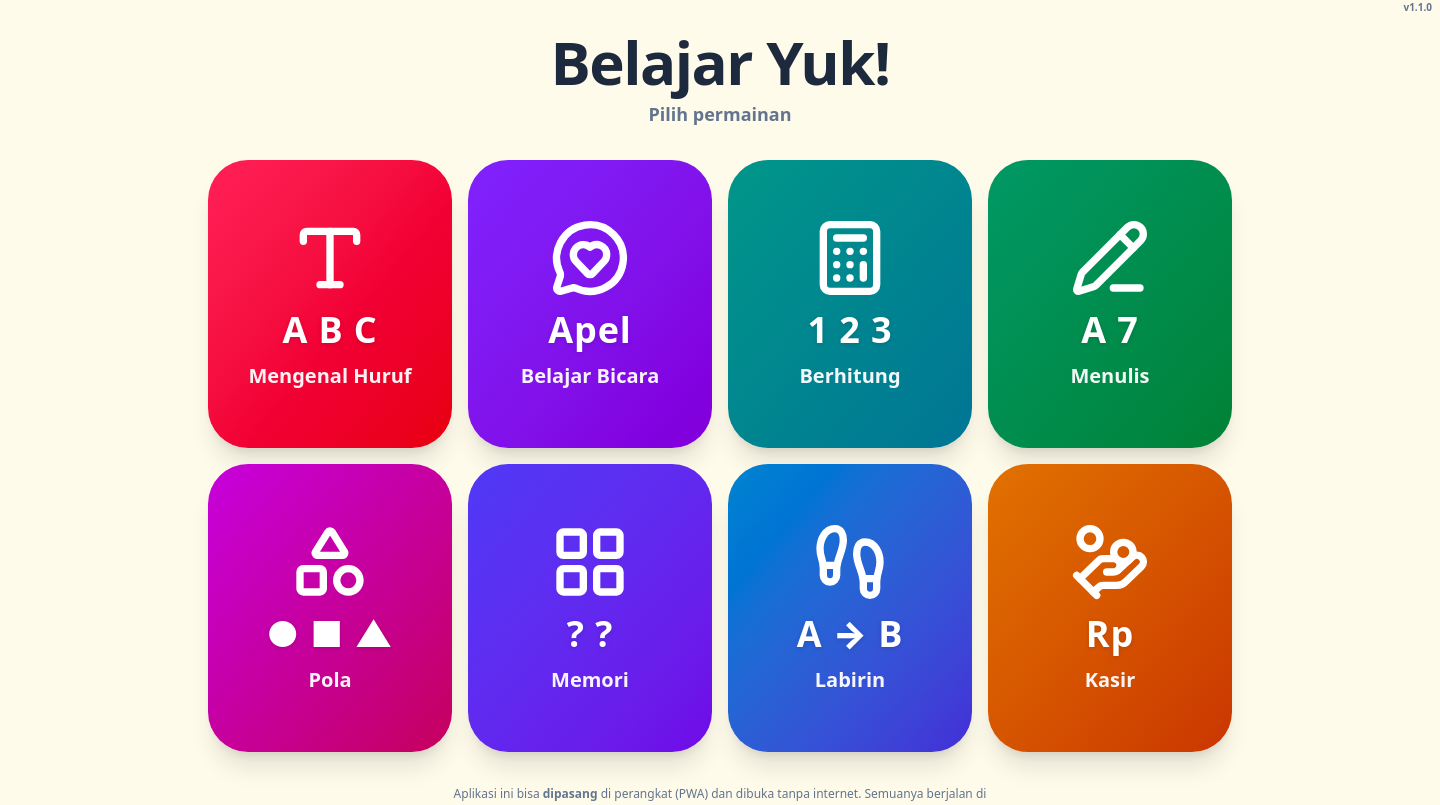
Test case: Memori › finishing › celebrates when every pair is found, and offers the next round
Click the button "? ? Memori". click: click(590, 608)
box: [468,464,712,752]
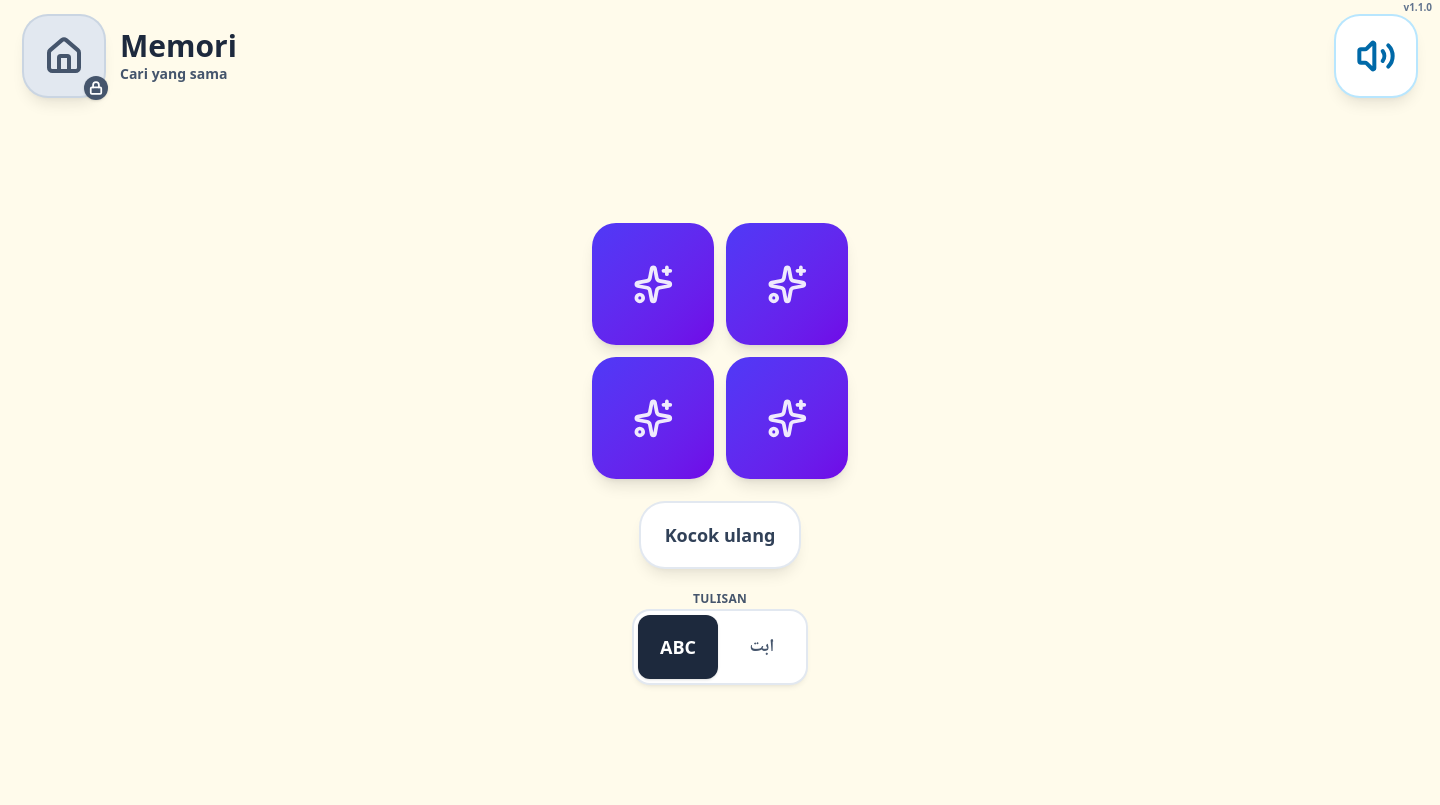
Click the button named "Kartu 1, tertutup". click: click(653, 284)
box: [592,223,714,345]
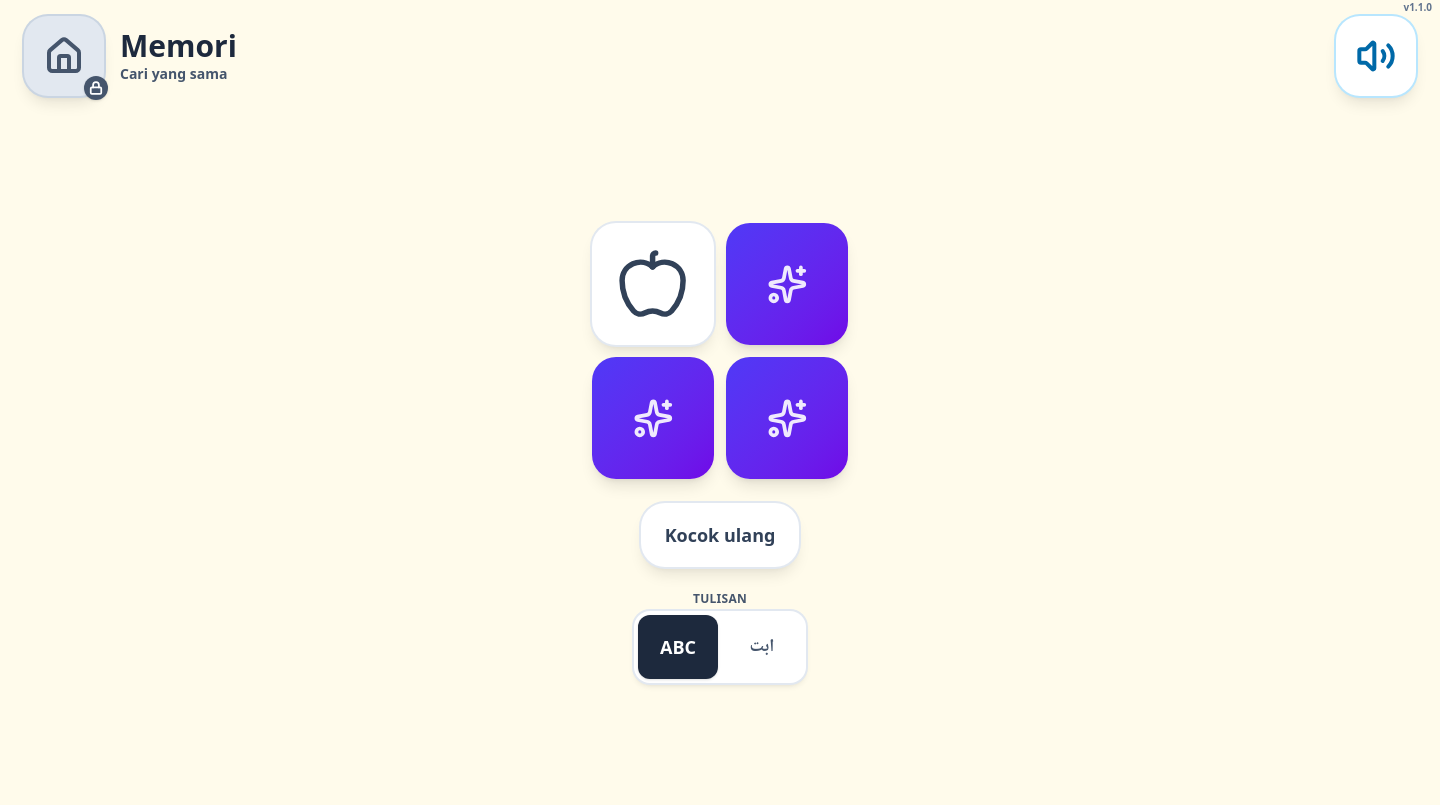
Click the button named "Kartu 2, tertutup". click: click(787, 284)
box: [726,223,848,345]
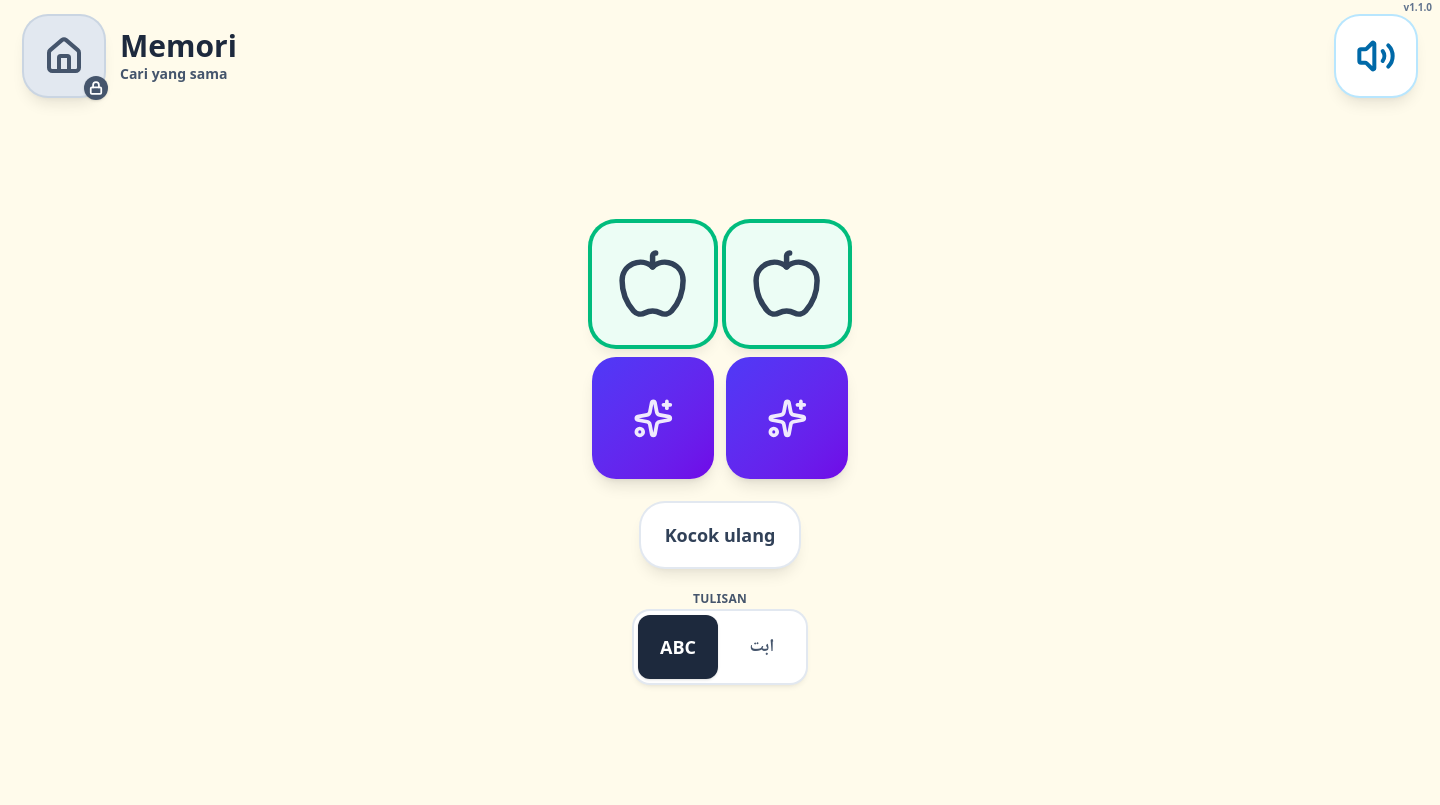
Click the button named "Kartu 3, tertutup". click: click(653, 418)
box: [592,357,714,479]
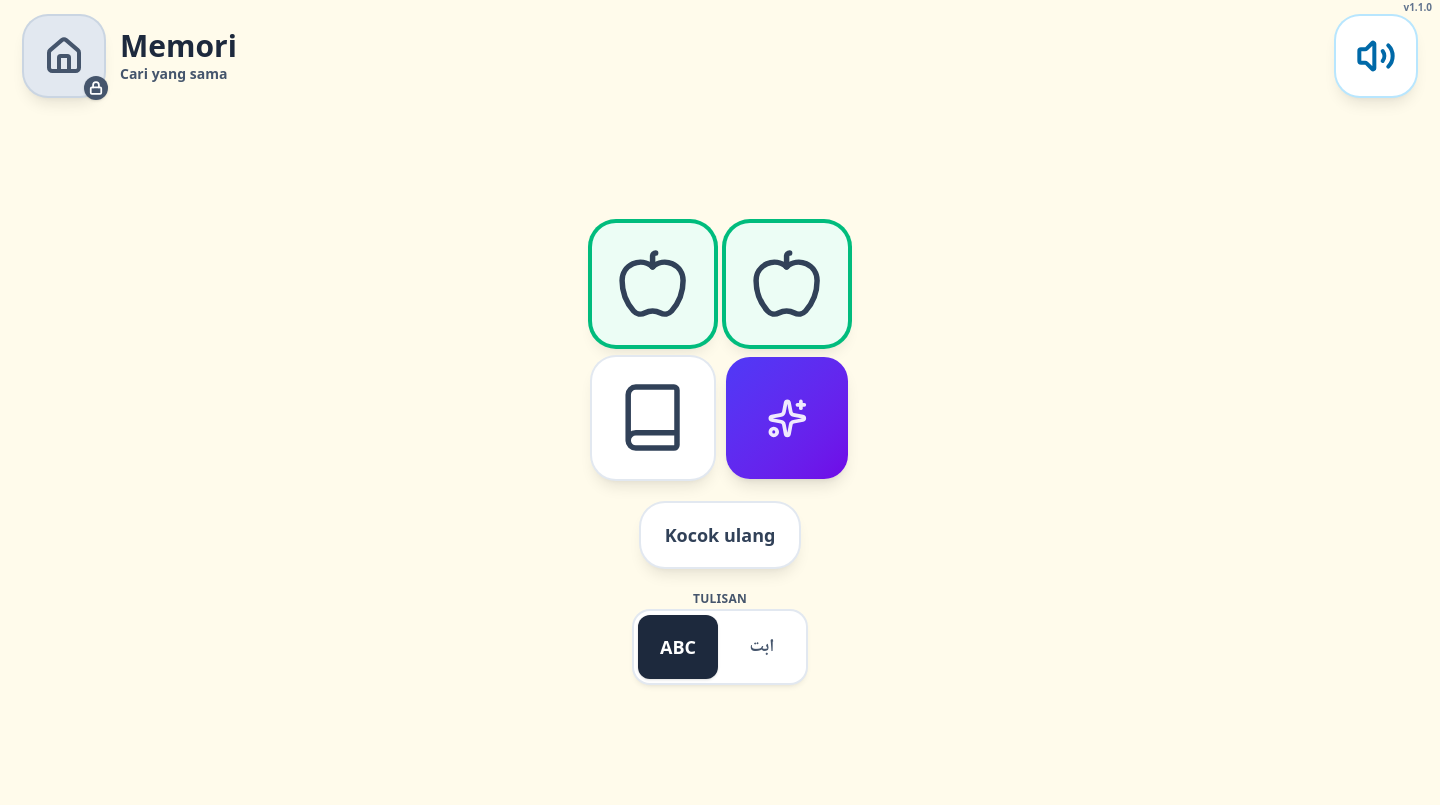
Click the button named "Kartu 4, tertutup". click: click(787, 418)
box: [726,357,848,479]
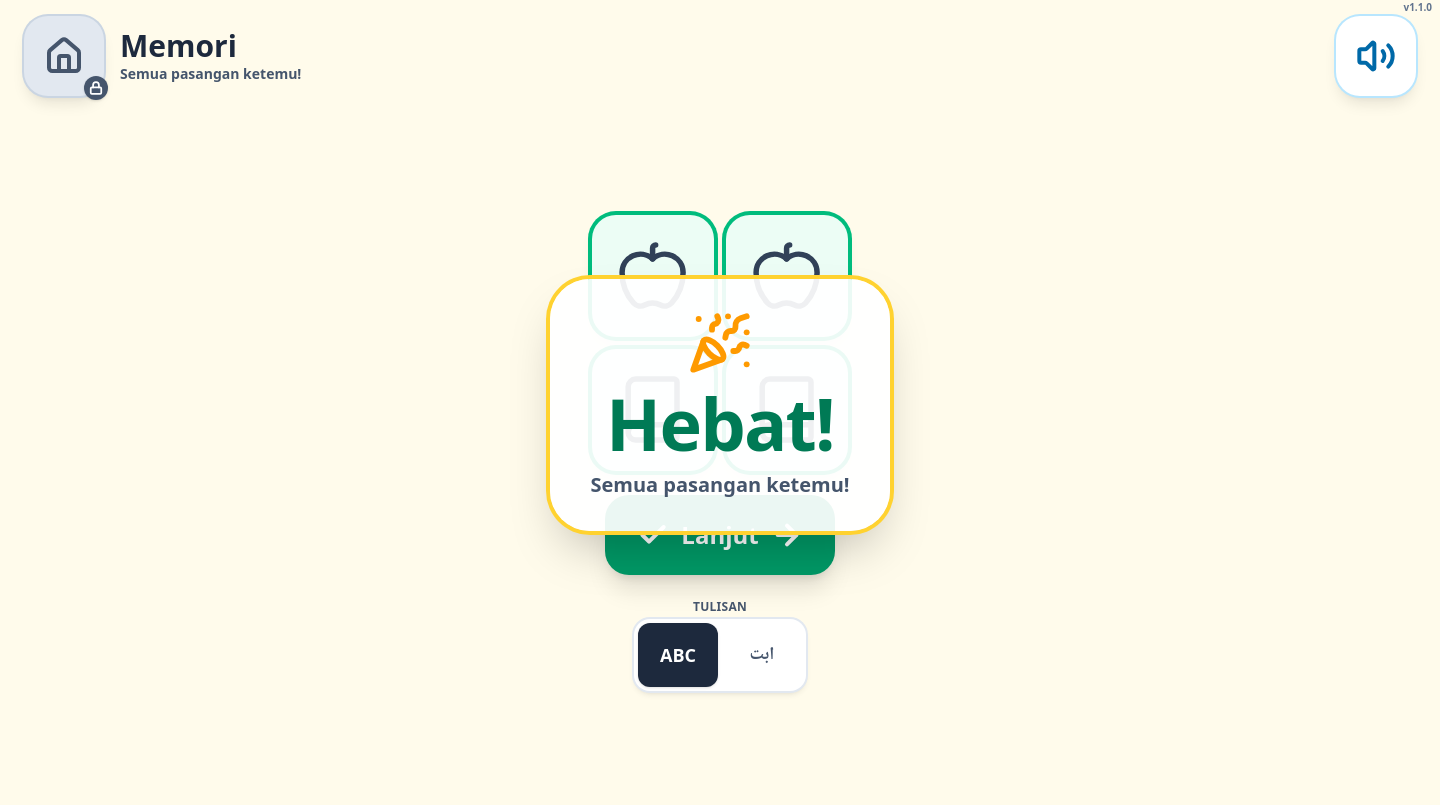
Expected: the text "Semua pasangan ketemu!" is shown, [120,64,301,83]
Expected: the button with aria-label "Memori berikutnya" is shown, [605,495,835,575]
